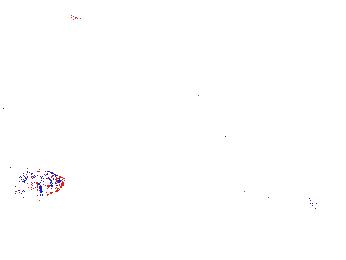X-ray fish: (66, 167, 137, 217), (154, 128, 234, 168), (13, 170, 66, 198), (2, 226, 44, 253)
